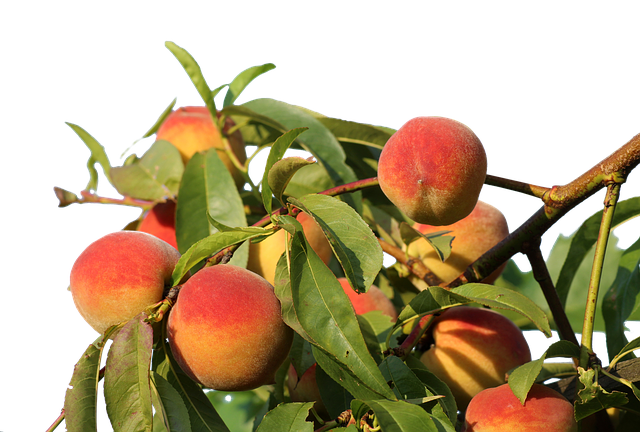peach: (163, 264, 298, 387), (376, 114, 488, 229), (67, 229, 178, 338)
